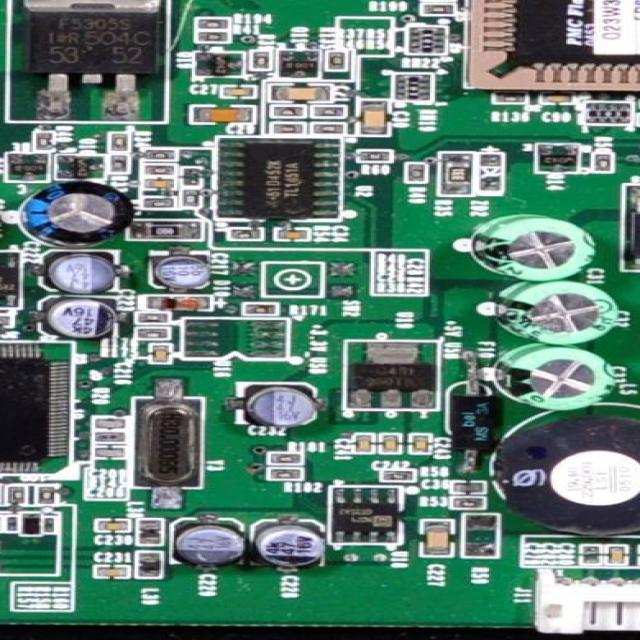IC: (0, 342, 71, 473), (0, 250, 20, 308)
capacitor: (356, 99, 386, 134), (271, 84, 331, 100), (422, 522, 448, 554), (196, 107, 250, 122), (92, 418, 126, 430), (97, 519, 128, 532), (409, 434, 430, 453), (90, 447, 125, 458), (95, 566, 130, 577), (353, 434, 372, 454), (381, 470, 412, 482), (150, 344, 168, 364), (451, 482, 481, 494), (276, 228, 308, 239), (538, 93, 573, 103), (142, 178, 176, 188), (382, 436, 400, 454), (184, 166, 198, 187), (582, 547, 598, 563), (609, 547, 622, 564)
connector: (531, 571, 640, 637)
resistor: (464, 514, 494, 558), (271, 105, 305, 119), (242, 302, 278, 314), (141, 164, 176, 176), (313, 123, 343, 136), (134, 312, 168, 323), (134, 327, 168, 338), (494, 91, 525, 103), (269, 121, 302, 132), (325, 50, 345, 68), (140, 149, 172, 160), (94, 432, 125, 443), (223, 86, 251, 98), (249, 50, 266, 69), (181, 188, 200, 205), (358, 152, 390, 162), (409, 163, 425, 183), (140, 198, 172, 208), (197, 19, 226, 30), (228, 228, 259, 238), (197, 31, 225, 42), (269, 469, 299, 479), (420, 3, 453, 12), (270, 453, 298, 463), (310, 106, 341, 115), (8, 487, 23, 502), (38, 488, 52, 504), (0, 314, 13, 326), (8, 517, 15, 529), (48, 517, 54, 531), (422, 0, 454, 1), (638, 112, 640, 124)
transistor: (346, 339, 440, 409), (537, 142, 576, 172), (277, 49, 317, 78), (196, 51, 242, 75)
